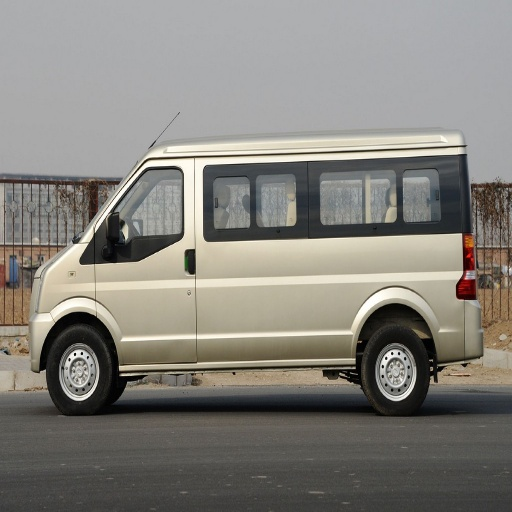back_left_door: (272, 282, 328, 355)
trunk: (319, 237, 474, 360), (206, 274, 264, 317)
